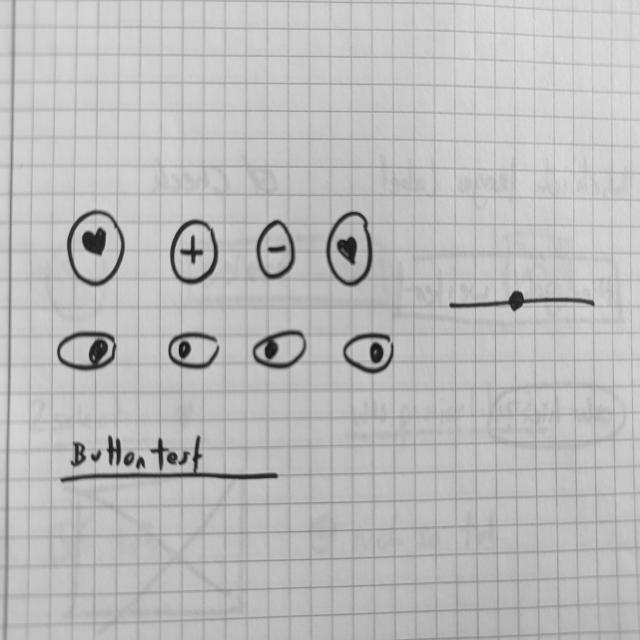icon-button: (67, 210, 126, 290), (326, 209, 376, 289), (170, 219, 222, 289), (255, 218, 298, 282)
input: (60, 431, 284, 486)
slider: (446, 287, 599, 319)
toggle: (55, 329, 123, 374), (343, 330, 399, 378), (253, 329, 310, 372), (168, 329, 223, 372)
